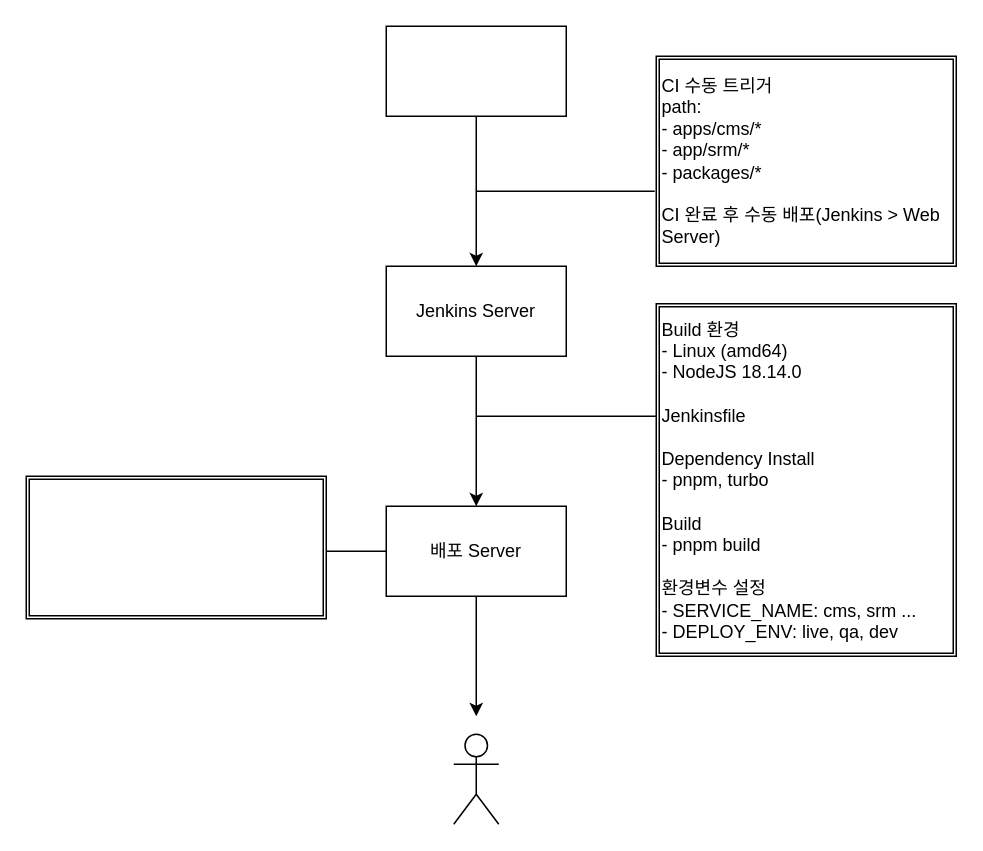
The diagram is 983 pixels wide and 851 high, and some of its shapes have lost their labels. Here are the shapes that lost their labels. From the top down, the box of each, then its label:
(385, 25, 566, 116): ERP/Frontend.git - Jenkinsfile
(25, 475, 326, 619): Dependency Install - pnpm Server Start (Port 3000) - pnpm start
